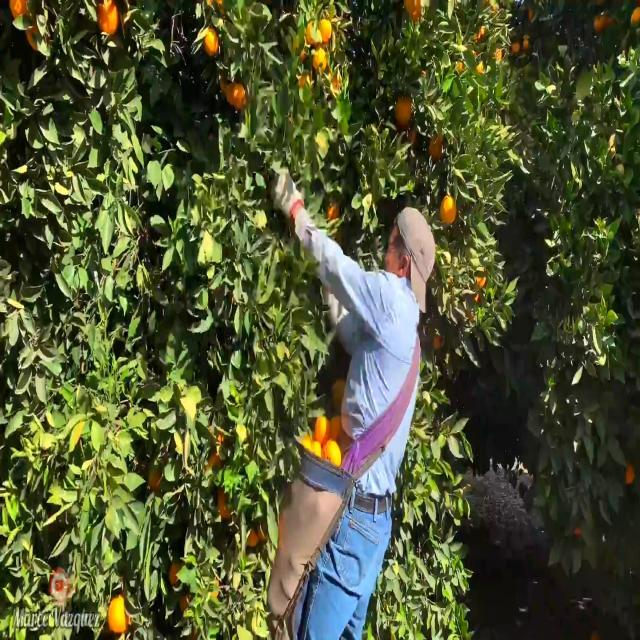Jeruk Sudah Matang: (105, 586, 130, 638), (438, 184, 461, 229), (322, 430, 340, 478), (315, 404, 331, 446)
